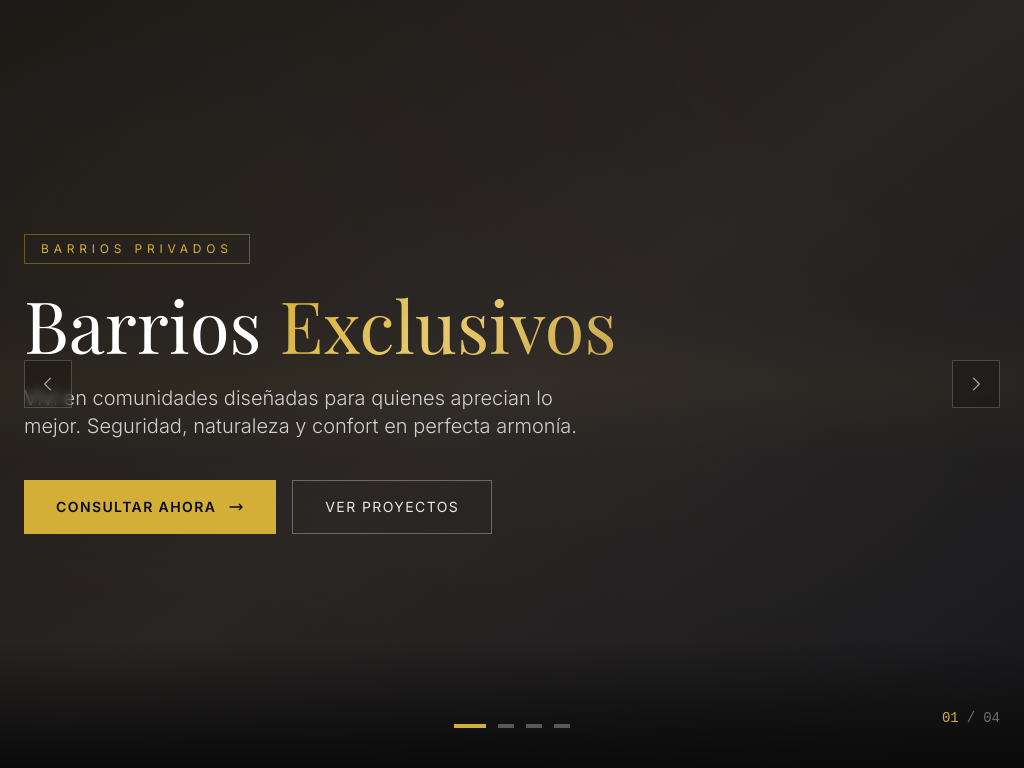
it: HeroCarousel › retrocede al slide anterior con la flecha izquierda
The image size is (1024, 768).
Step 1. Click the button named "Siguiente" → (976,384), box [952, 360, 1000, 408]
Wait 800 ms
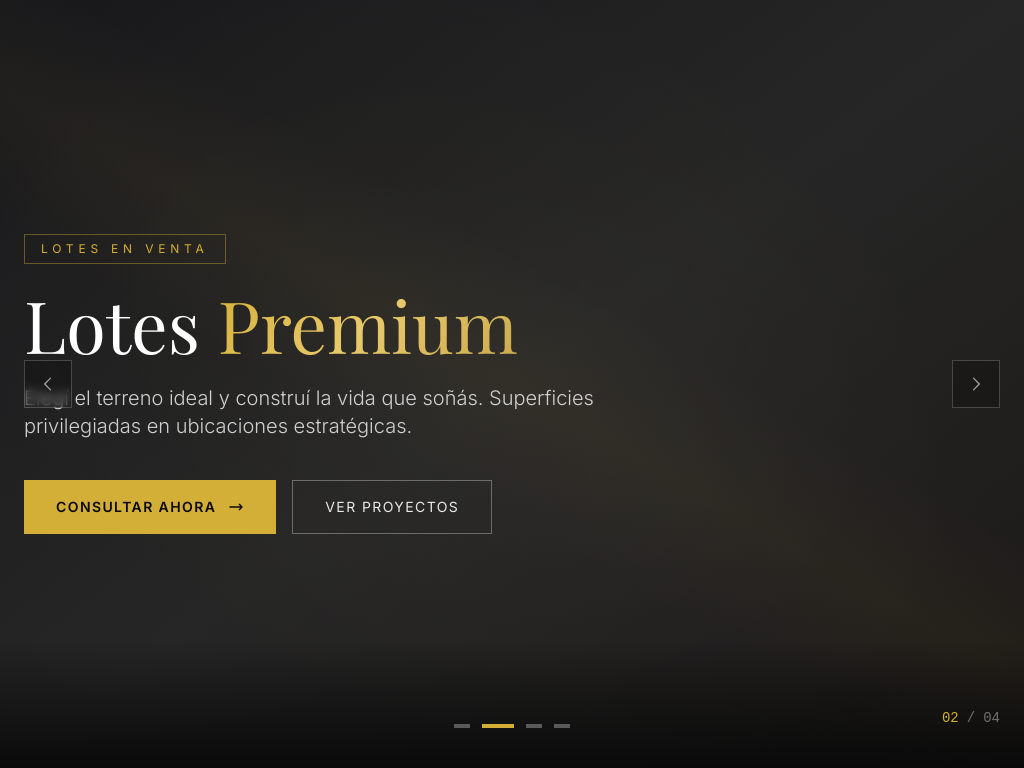
Step 2. Click the button named "Anterior" → (48,384), box [24, 360, 72, 408]
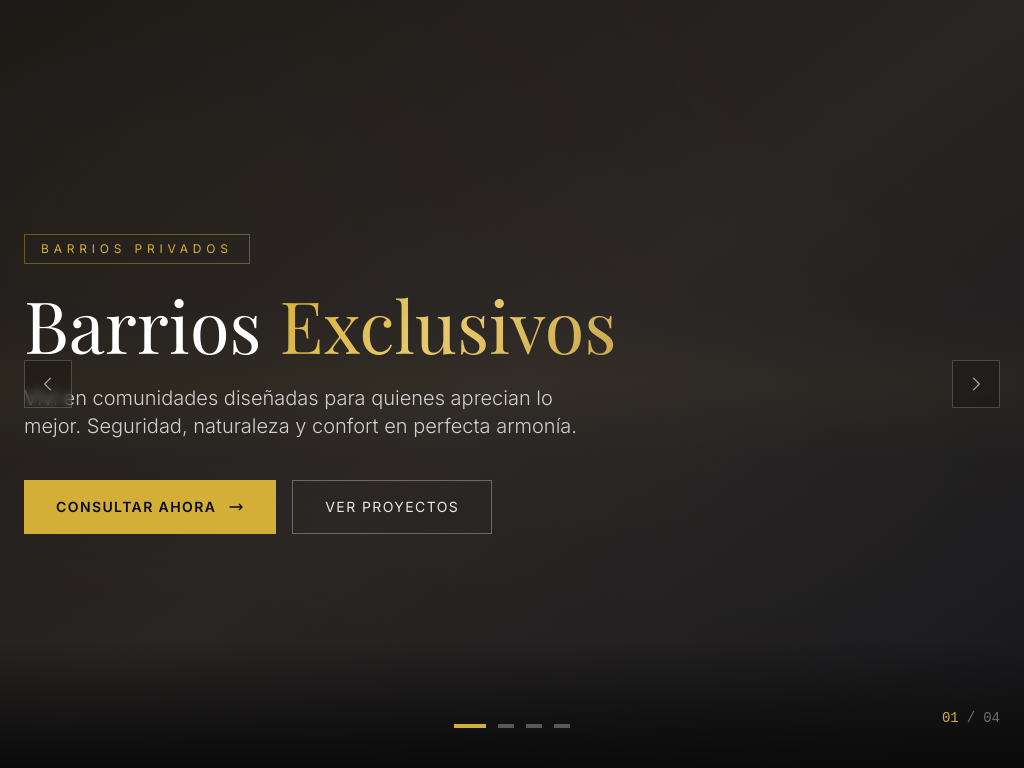
Expected: the heading reads "Barrios Exclusivos", [24, 288, 696, 360]
